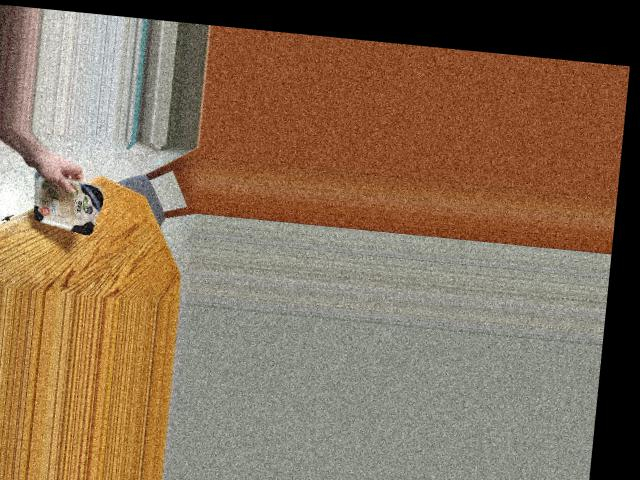cheese: (14, 172, 108, 234)
